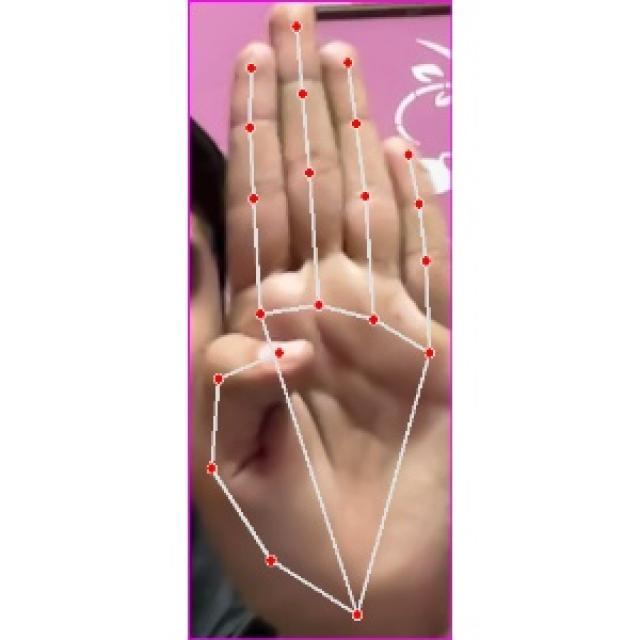B: (195, 2, 450, 629)
